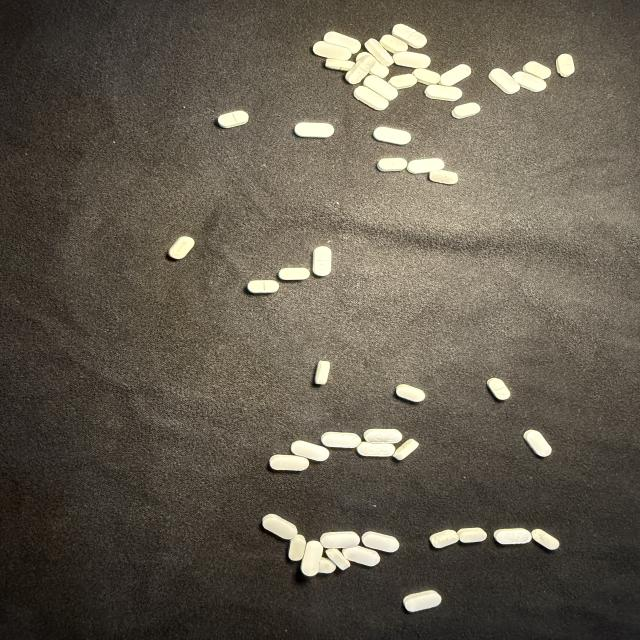pill: (345, 54, 376, 84), (300, 540, 324, 577), (263, 514, 297, 539), (364, 75, 398, 100), (392, 24, 427, 48), (403, 590, 441, 612), (354, 86, 388, 110), (489, 68, 520, 94), (324, 32, 361, 53), (291, 441, 329, 461), (365, 39, 393, 66), (343, 546, 380, 566), (362, 532, 399, 552), (313, 41, 352, 59), (524, 430, 551, 456), (373, 127, 411, 145), (440, 64, 471, 86), (513, 72, 546, 92), (321, 432, 361, 448), (320, 532, 360, 548), (270, 455, 308, 471), (364, 428, 402, 444), (294, 123, 334, 138), (393, 52, 430, 68), (425, 85, 462, 101), (494, 528, 531, 544), (532, 529, 559, 550), (218, 110, 249, 128), (169, 237, 194, 259), (313, 246, 331, 276), (408, 158, 444, 173), (380, 35, 408, 54), (393, 439, 418, 460), (430, 530, 459, 548), (357, 442, 394, 456), (487, 378, 510, 400), (523, 61, 551, 79), (326, 549, 350, 570), (408, 159, 442, 173), (289, 534, 306, 561), (278, 267, 310, 281), (556, 54, 575, 77), (388, 74, 417, 89), (458, 528, 486, 543), (452, 103, 480, 118), (247, 280, 279, 293), (429, 170, 458, 184), (413, 69, 440, 84), (377, 158, 407, 171), (325, 59, 354, 71), (315, 361, 330, 384), (370, 61, 388, 78), (318, 557, 336, 573)
